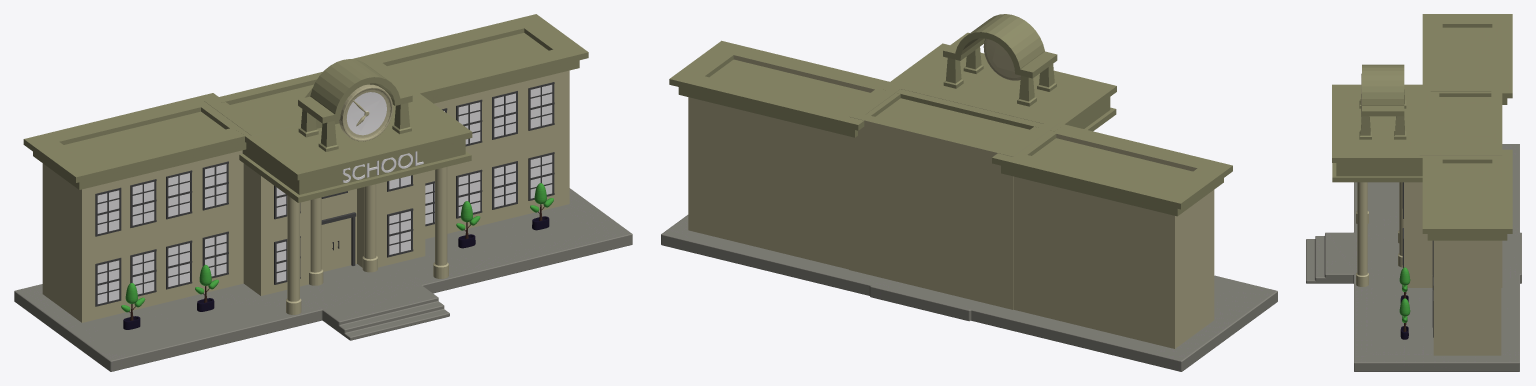
File: School3.glb
3 renders of one model, left to right at view 1: azimuth 30°, elevation 25°; view 2: azimuth 150°, elevation 25°; view 3: azimuth 270°, elevation 25°, orthographic. The views are drawn at different scales.
Visible parts, largest first — view 1: 3d66-Editable_Poly-21608961-001; view 2: 3d66-Editable_Poly-21608961-001; view 3: 3d66-Editable_Poly-21608961-001.
Part boxes in pixels (x1=…): 3d66-Editable_Poly-21608961-001: x1=14, y1=14, x2=632, y2=371; 3d66-Editable_Poly-21608961-001: x1=661, y1=14, x2=1277, y2=371; 3d66-Editable_Poly-21608961-001: x1=1306, y1=14, x2=1521, y2=371.
Size of the model in its own units: 3.66 by 1.52 by 1.52.
Materials: 1 (1 with a texture image).
